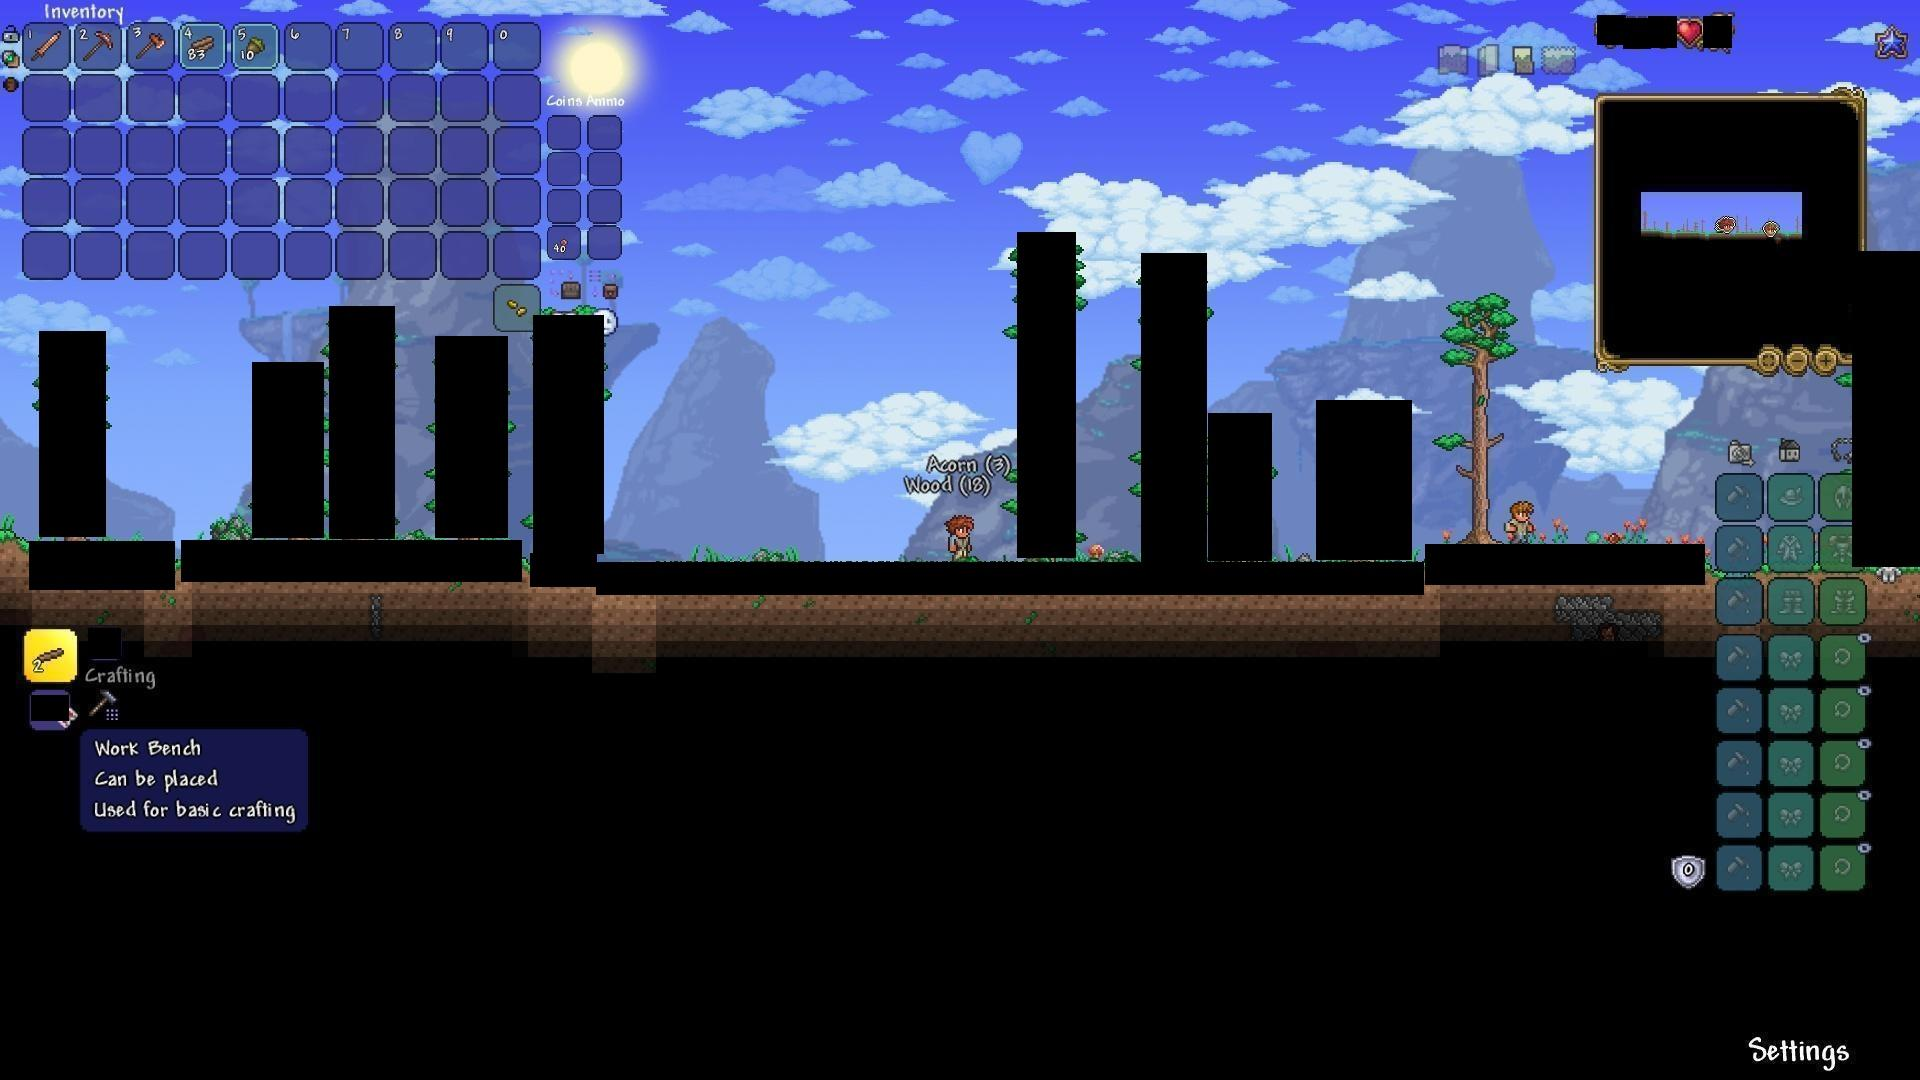dirt: (0, 516, 26, 558)
heart: (1676, 17, 1704, 47)
tree: (1451, 284, 1515, 537)
wood: (185, 32, 218, 61)
